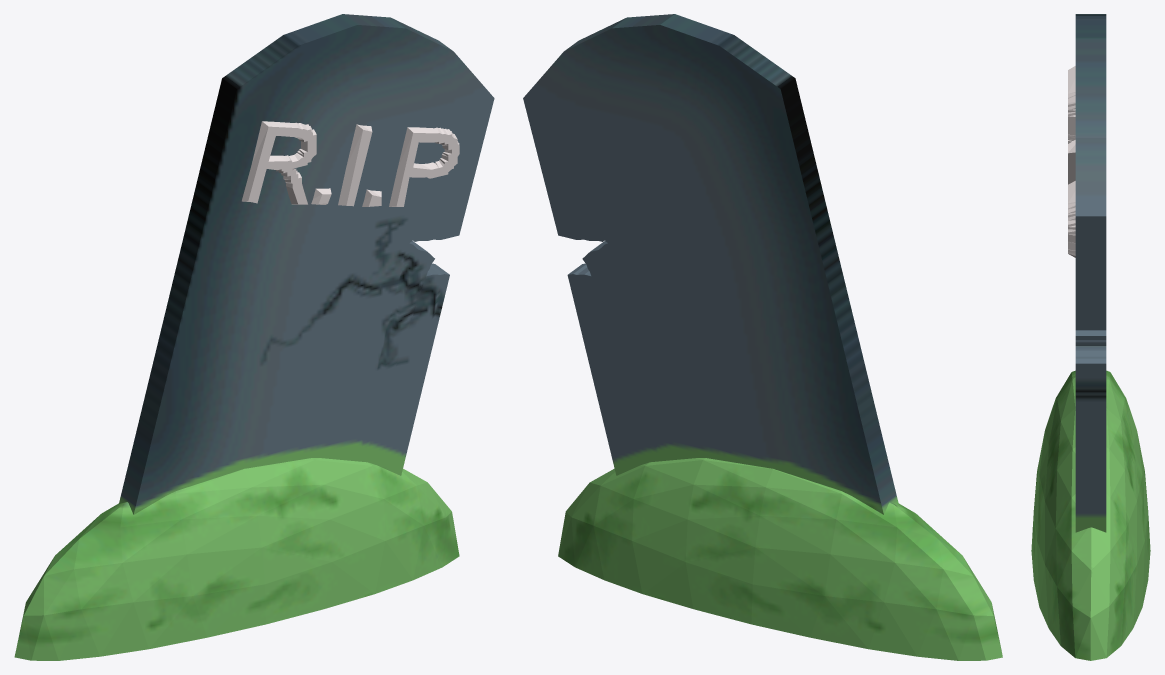
Rendered from Grave.glb.
3 renders of one model, left to right at view 1: azimuth 30°, elevation 25°; view 2: azimuth 150°, elevation 25°; view 3: azimuth 270°, elevation 25°, orthographic. The views are drawn at different scales.
Parts seen in each view (by area): view 1: Grave; view 2: Grave; view 3: Grave.
Part boxes in pixels (box(x1,y1,x2,y2)): Grave: box(14, 14, 494, 660); Grave: box(523, 14, 1002, 660); Grave: box(1031, 14, 1150, 660).
Size of the model in its own units: 175 by 197 by 37.4.
1 material, 1 textured.
